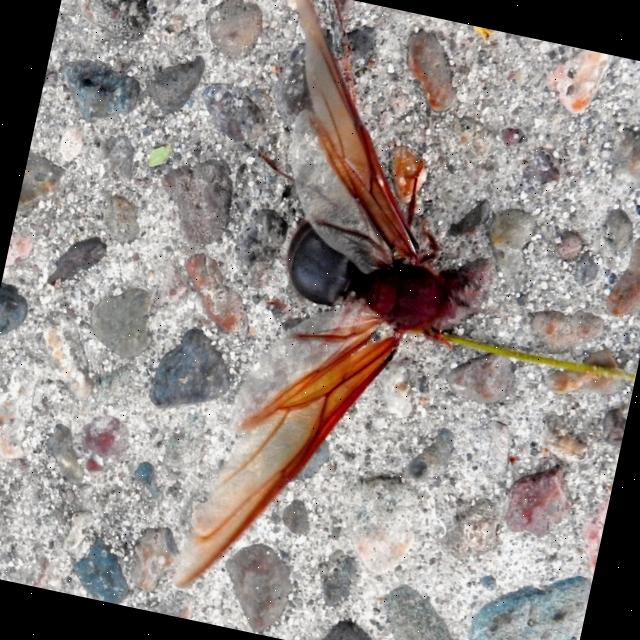Alive-Female-Alate: (167, 0, 539, 639)
